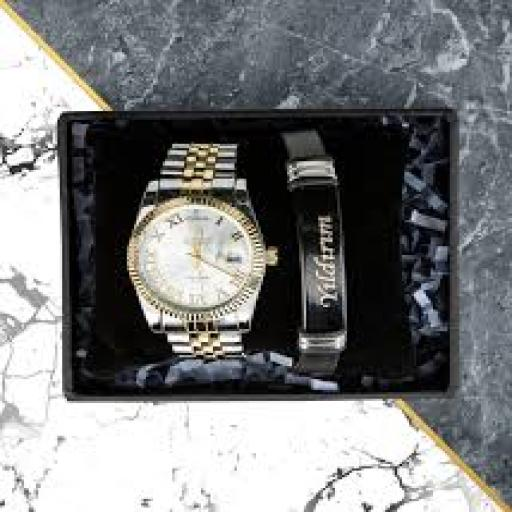KolSaati: (116, 124, 291, 382)
